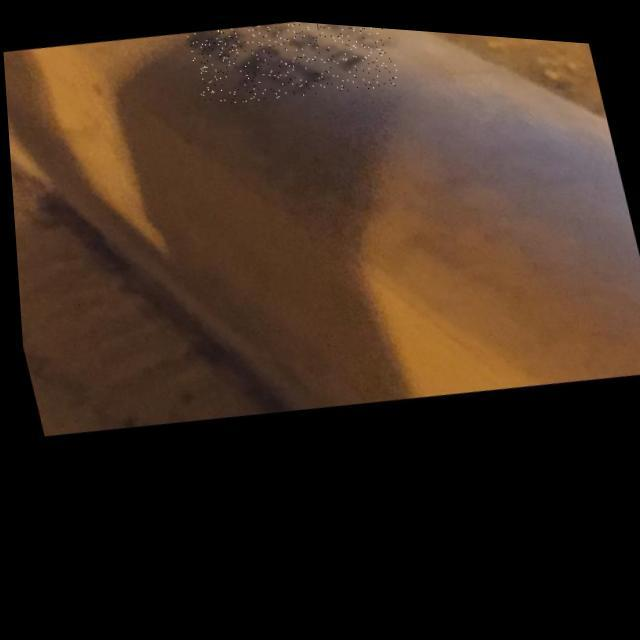-: (184, 11, 402, 113)
